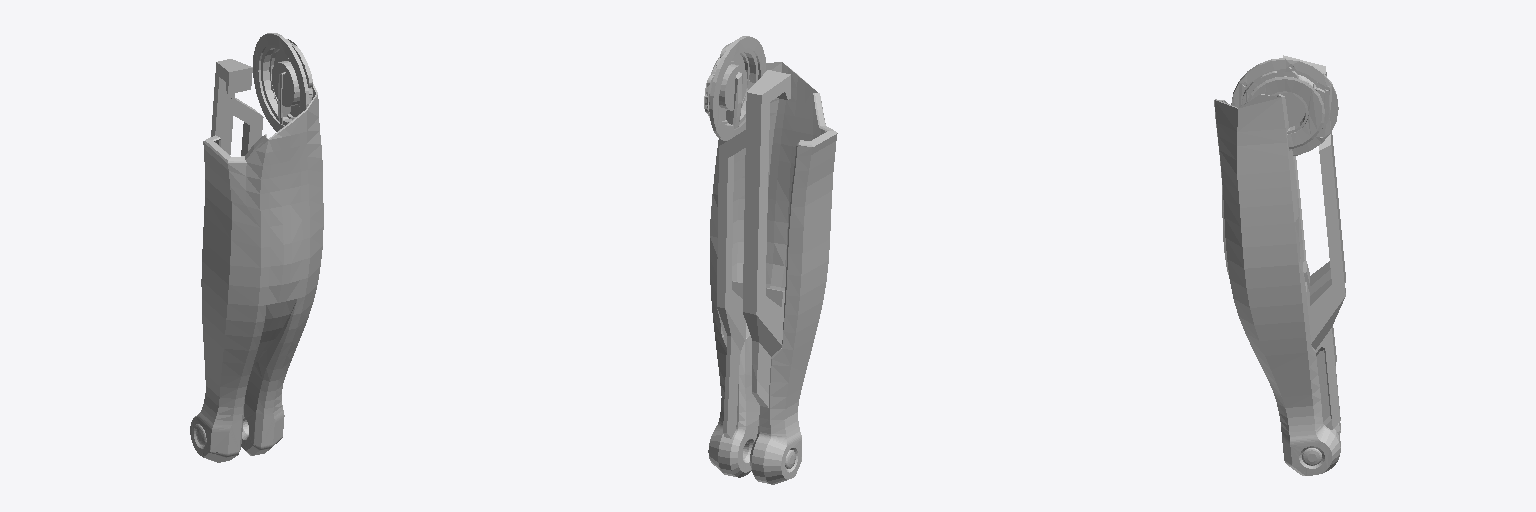
The model's file is leftThigh.obj.
3 renders of one model, left to right at view 1: azimuth 30°, elevation 25°; view 2: azimuth 150°, elevation 25°; view 3: azimuth 270°, elevation 25°, orthographic.
Visible parts, largest first — view 1: leftThigh1; view 2: leftThigh1; view 3: leftThigh1.
Part boxes in pixels (x1,y1,x2,y2): leftThigh1: (190,33,323,462); leftThigh1: (704,36,837,484); leftThigh1: (1214,55,1345,475).
Size of the model in its own units: 0.7562 by 3.1 by 0.8782.